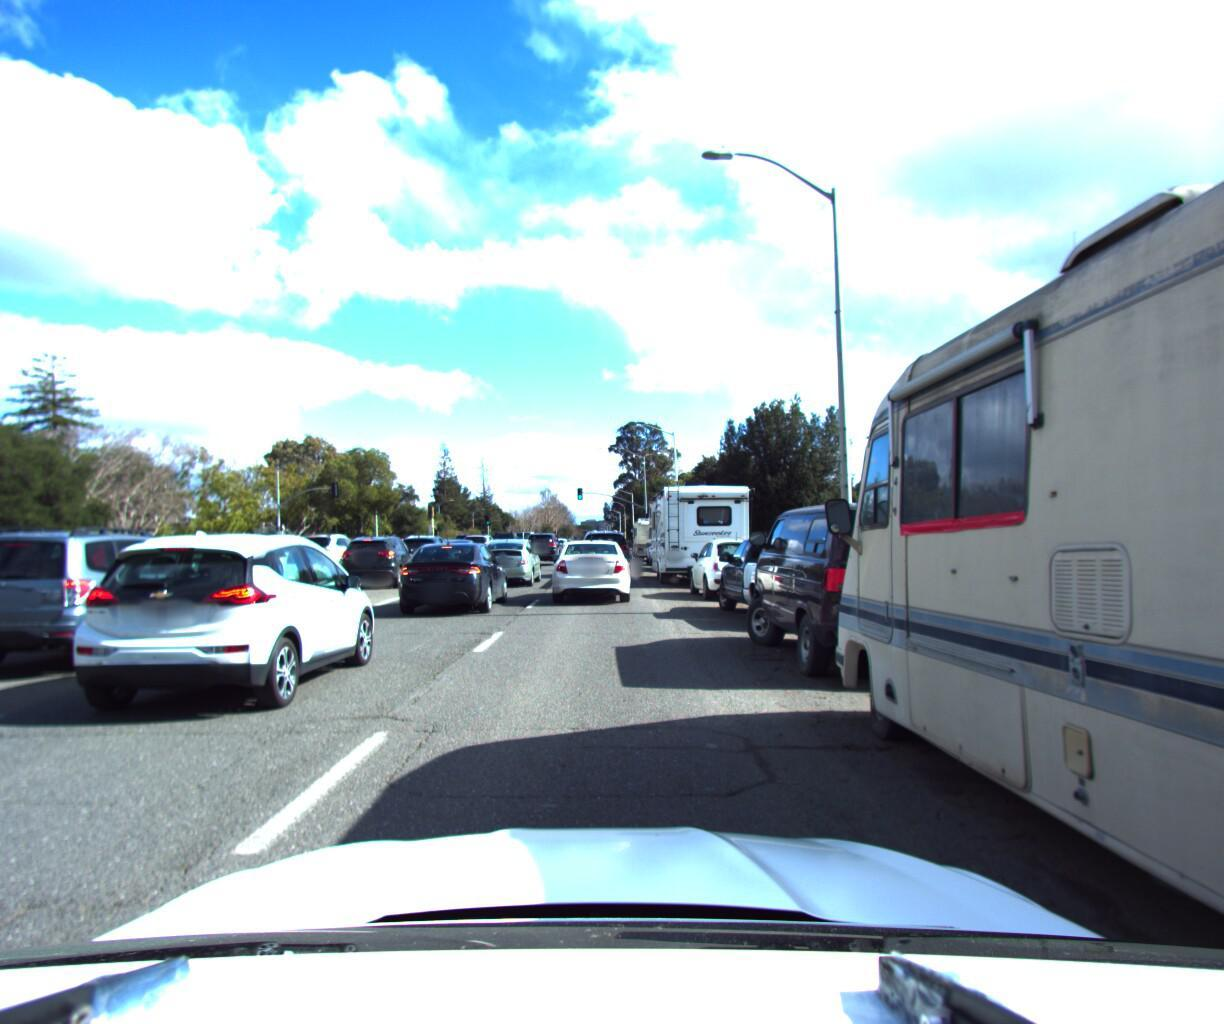car: (36, 513, 380, 732), (749, 493, 1035, 697), (0, 518, 246, 685), (715, 534, 879, 633), (395, 532, 514, 621), (183, 534, 318, 601), (550, 526, 637, 609), (685, 537, 779, 605), (335, 536, 425, 595), (286, 531, 374, 582), (478, 540, 545, 591), (394, 539, 464, 583), (583, 528, 633, 579), (527, 534, 568, 569), (460, 536, 505, 567)
other_vehicle: (646, 480, 764, 590), (631, 515, 680, 563)
